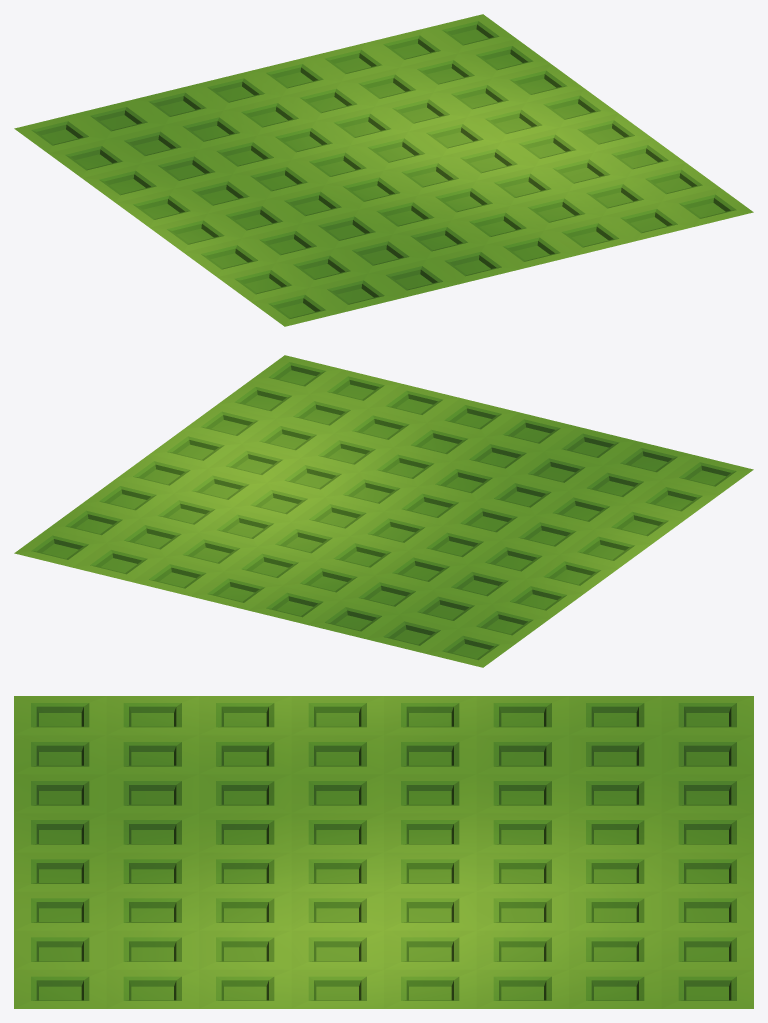
File: GroundGreenTile.glb
3 renders of one model, top to bottom at view 1: azimuth 30°, elevation 25°; view 2: azimuth 150°, elevation 25°; view 3: azimuth 270°, elevation 25°, orthographic. The views are drawn at different scales.
Parts seen in each view (by area): view 1: GroundGreenTile; view 2: GroundGreenTile; view 3: GroundGreenTile.
Boxes of the visible parts, x1,y1,x2,y2 form: GroundGreenTile: [14, 14, 753, 326]; GroundGreenTile: [14, 355, 753, 667]; GroundGreenTile: [14, 696, 753, 1008].
Bounding box in the file's own units: 16 × 0.16 × 16.
1 material, 1 textured.
